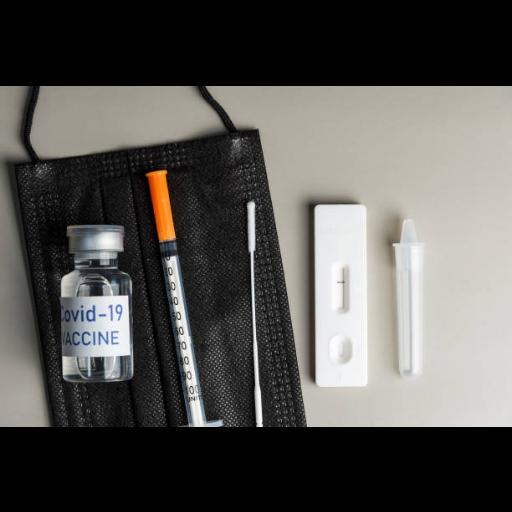Neg: (314, 204, 366, 384)
